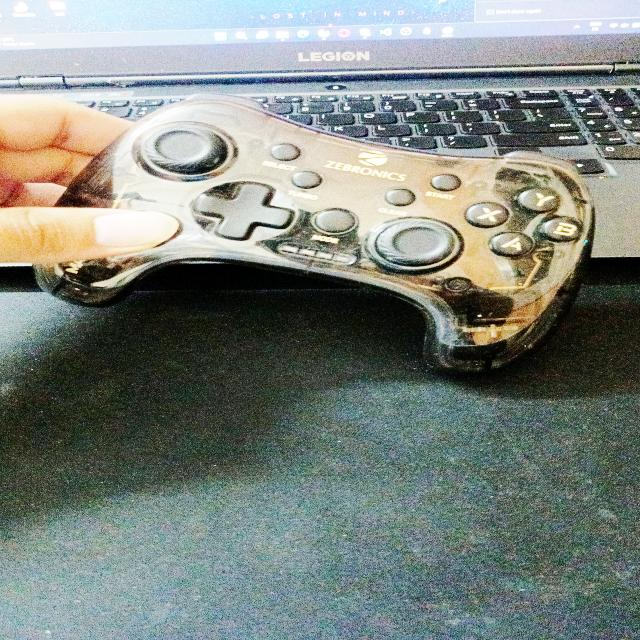gamepad: (31, 93, 596, 375)
